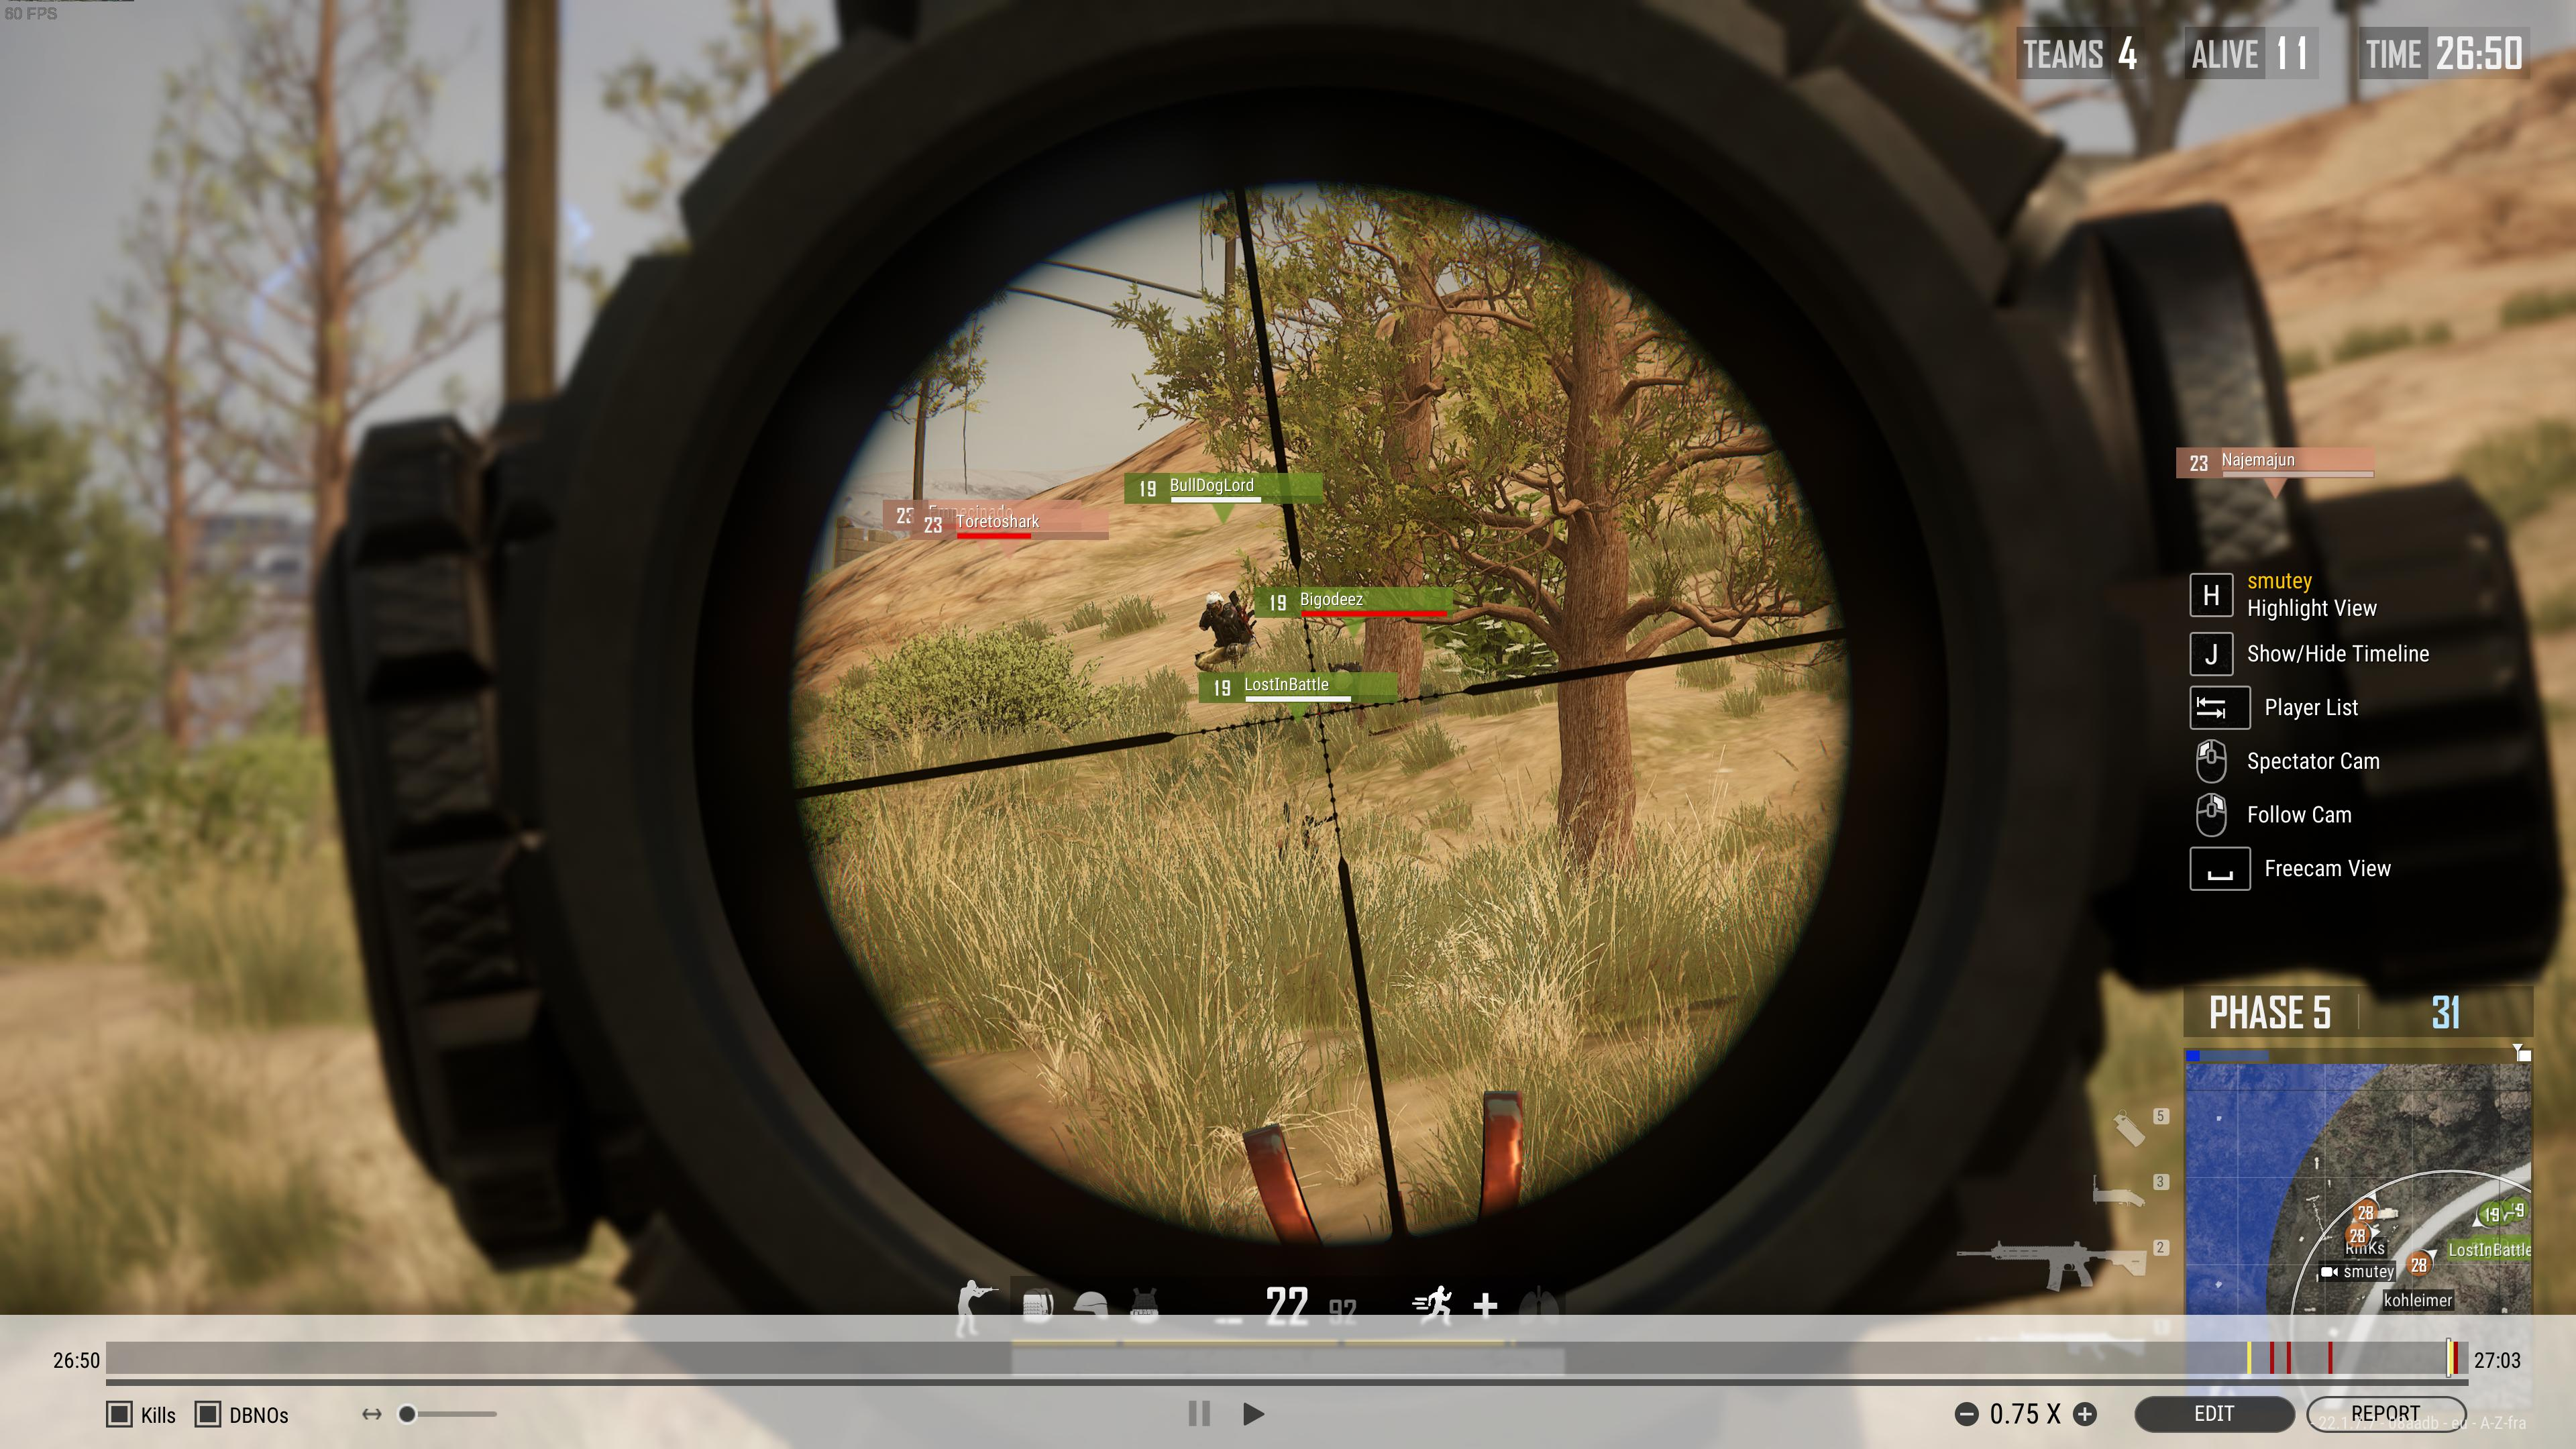enemy: (1194, 591, 1253, 672)
enemy_head: (1205, 591, 1224, 614)
